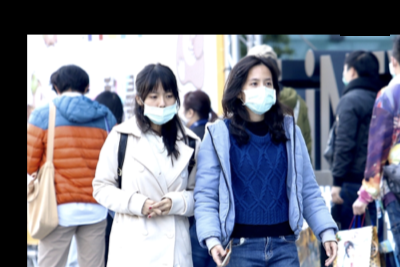mask_weared_incorrect: (141, 88, 178, 125)
with_mask: (243, 74, 278, 116)
